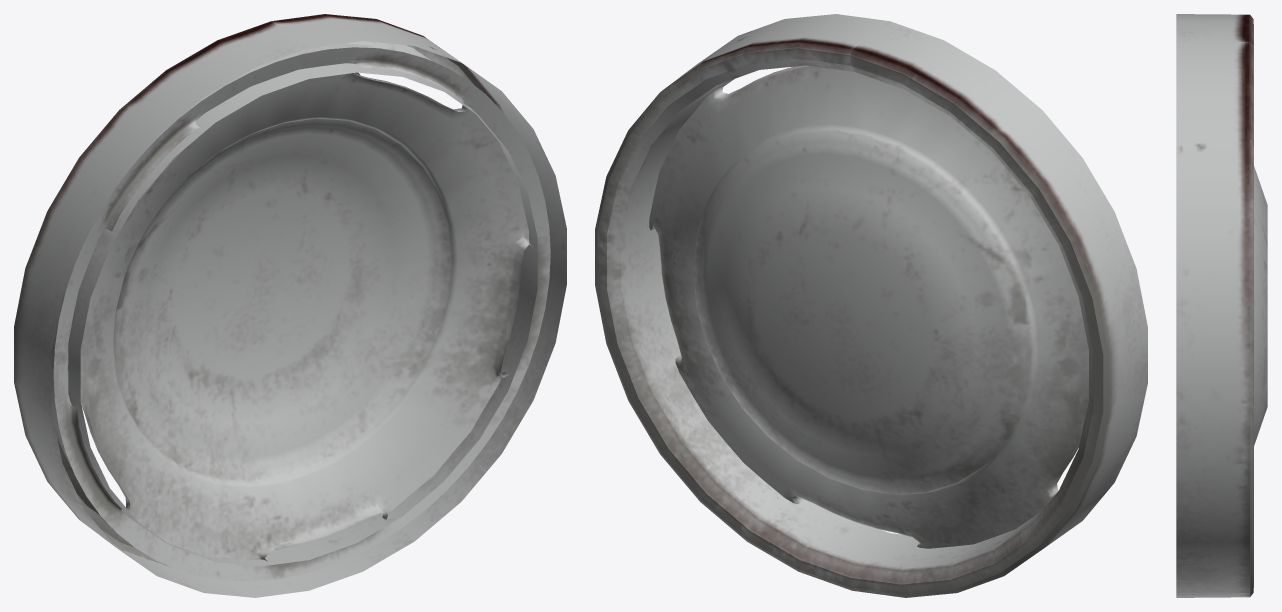
Rendered from Prop_Rim_3.fbx.
The picture shows the model from 3 angles, left to right: view 1: azimuth 30°, elevation 25°; view 2: azimuth 150°, elevation 25°; view 3: azimuth 270°, elevation 25°; orthographic projection. The views are drawn at different scales.
Visible parts, largest first — view 1: Prop_Rim_3; view 2: Prop_Rim_3; view 3: Prop_Rim_3.
Boxes of the visible parts, left/top/right/bottom form: Prop_Rim_3: left=14, top=14, right=566, bottom=597; Prop_Rim_3: left=595, top=14, right=1147, bottom=597; Prop_Rim_3: left=1176, top=14, right=1267, bottom=597.
Size of the model in its own units: 30.48 by 30.65 by 4.81.
